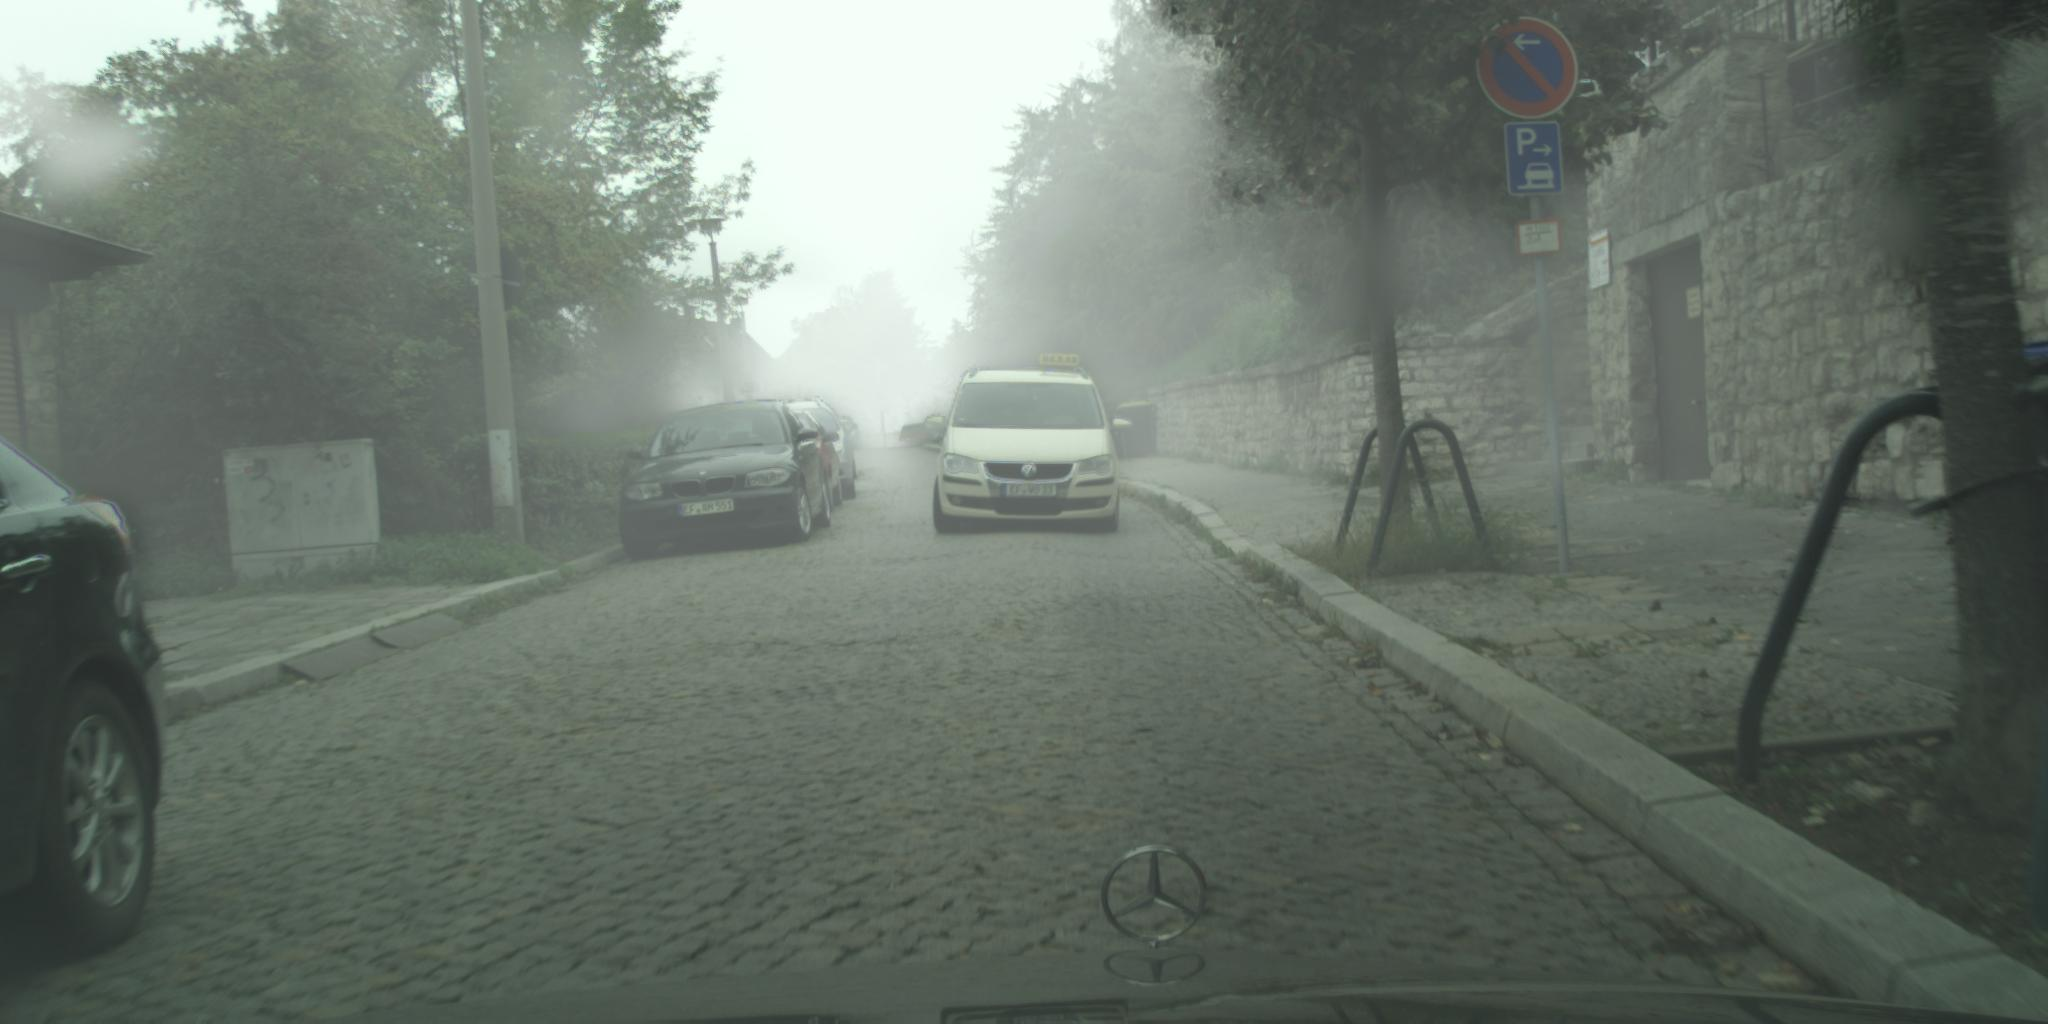car: (1, 434, 170, 970), (925, 353, 1132, 536), (620, 401, 832, 563), (780, 398, 858, 502), (790, 410, 844, 515), (833, 418, 862, 457), (900, 423, 934, 453), (921, 424, 956, 447)
